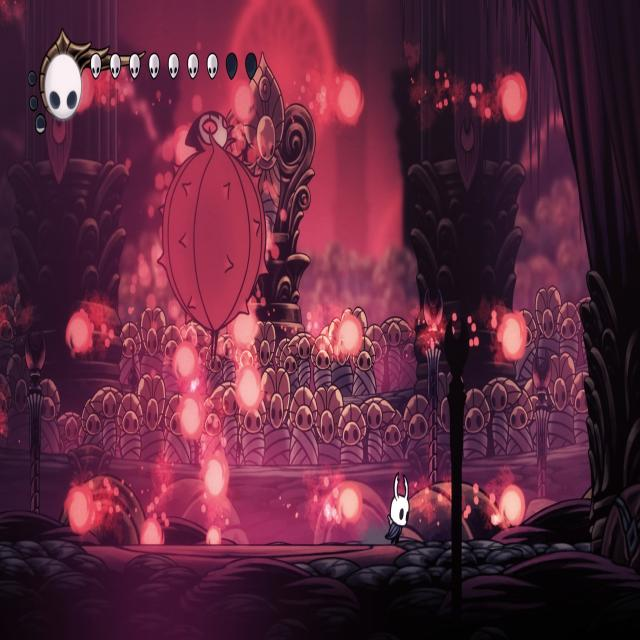Player: (382, 464, 412, 548)
Pufferfish: (155, 104, 274, 368)
Tiny Fireballs: (66, 484, 94, 537), (501, 74, 528, 124), (202, 454, 230, 500), (501, 313, 527, 362), (338, 77, 363, 127), (65, 311, 92, 357), (236, 366, 261, 414), (177, 395, 203, 440), (234, 81, 257, 126), (339, 316, 363, 359), (500, 485, 524, 527), (74, 67, 96, 112), (232, 310, 258, 348), (174, 341, 198, 381), (340, 484, 361, 522), (140, 515, 164, 546), (207, 527, 221, 545)
